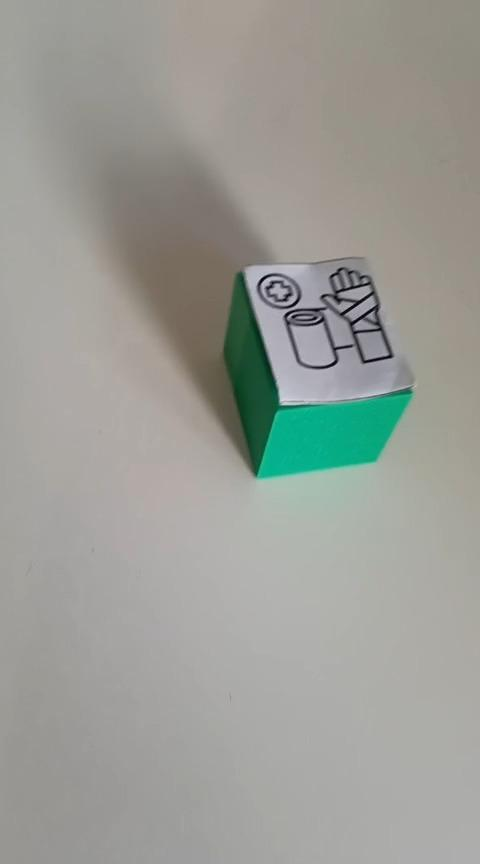Bandages: (221, 254, 416, 479)
